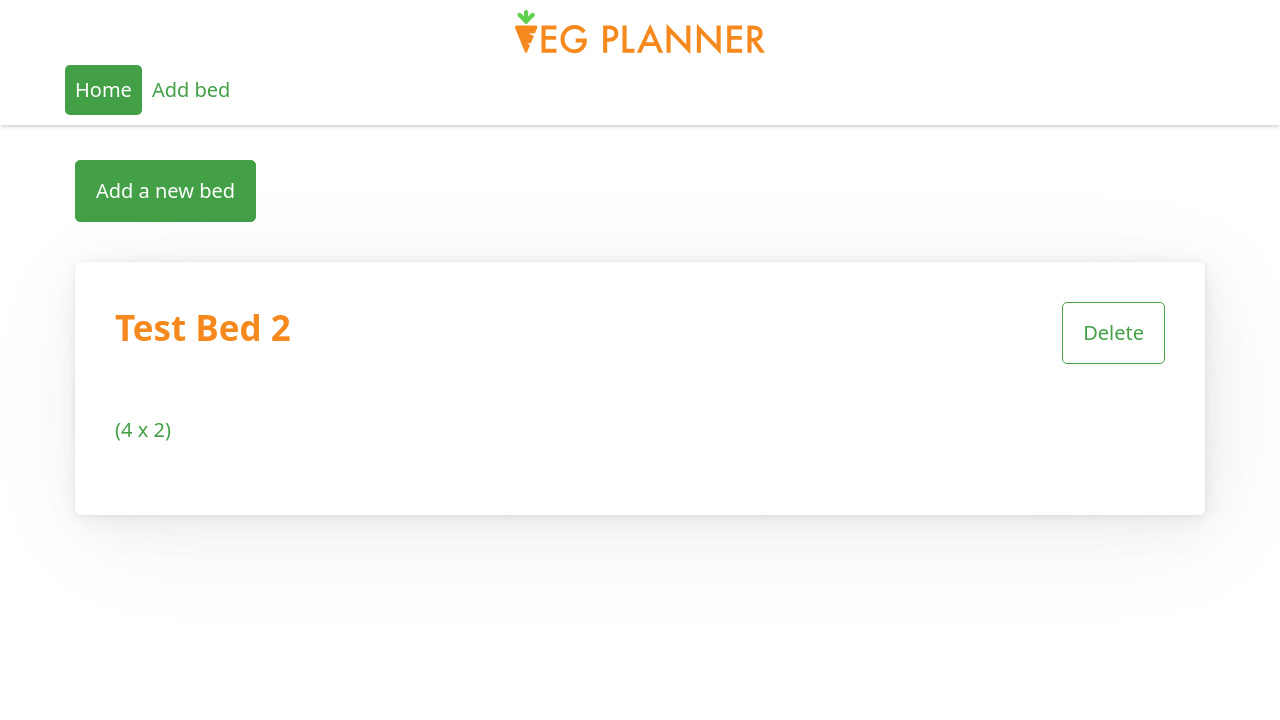
Test: Home › If a user clicks 'Add a new bed', then they are taken to the page where they can create a bed
This screenshot has width=1280, height=720.
Click the button "Add a new bed": [166, 191] box [75,160,256,222]
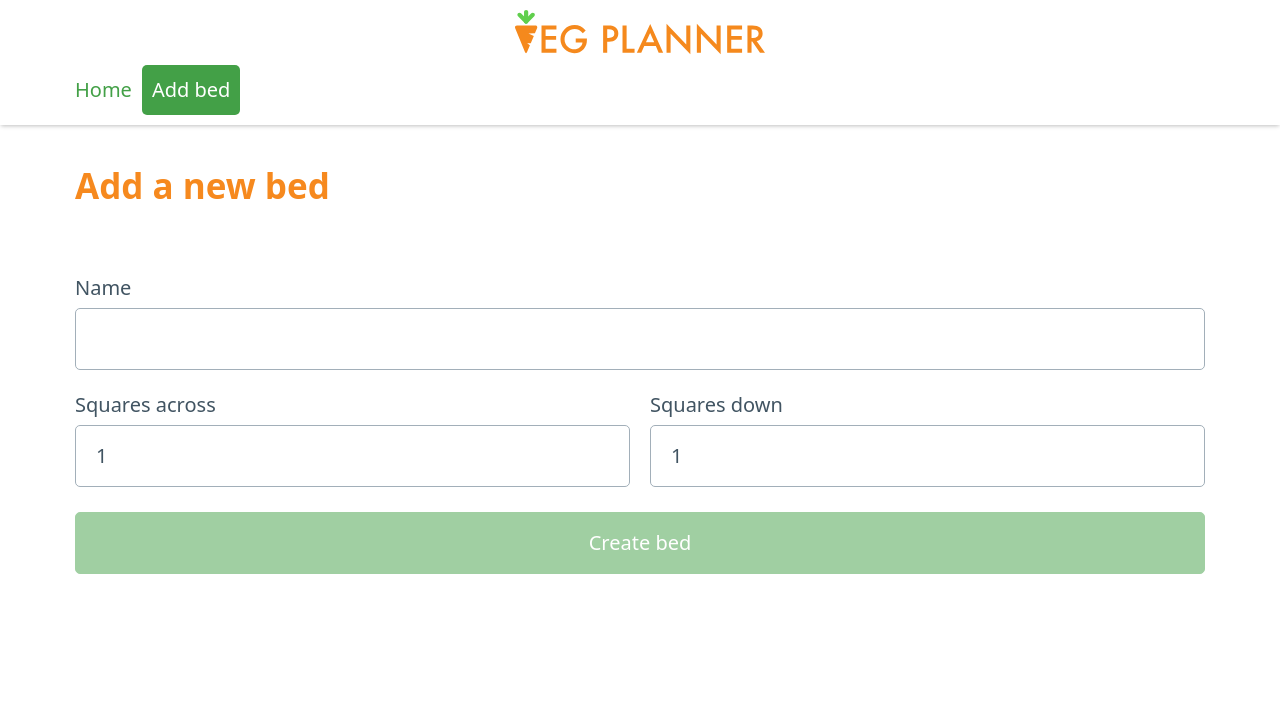
Now the heading "Add a new bed" is shown, box [75,162,330,209]
